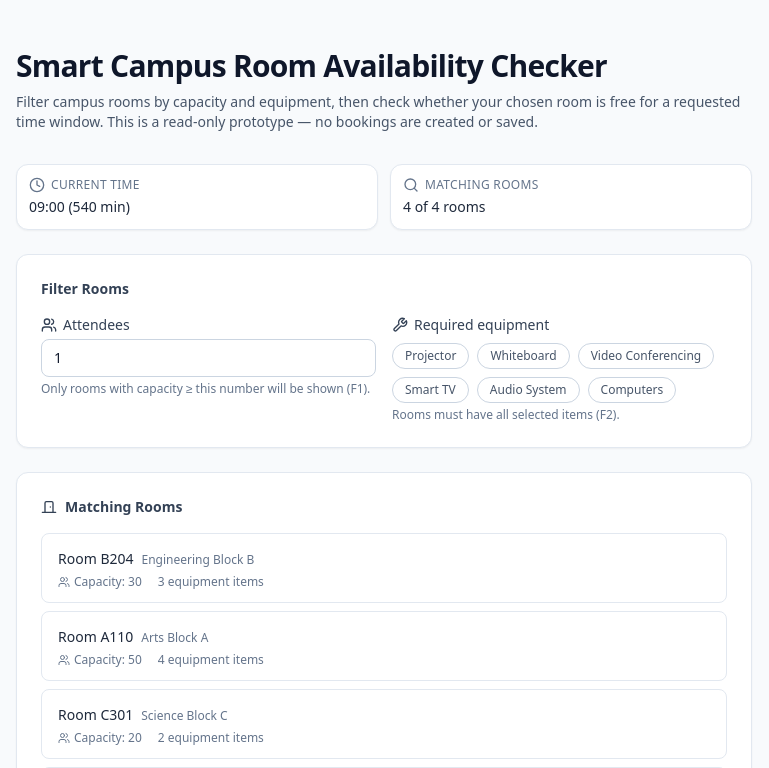
Test: Integration — check availability end to end › shows validation errors for invalid time inputs
Click the text "Room B204". click: x=96, y=558
box: [58,549,134,568]
(page scrolled)
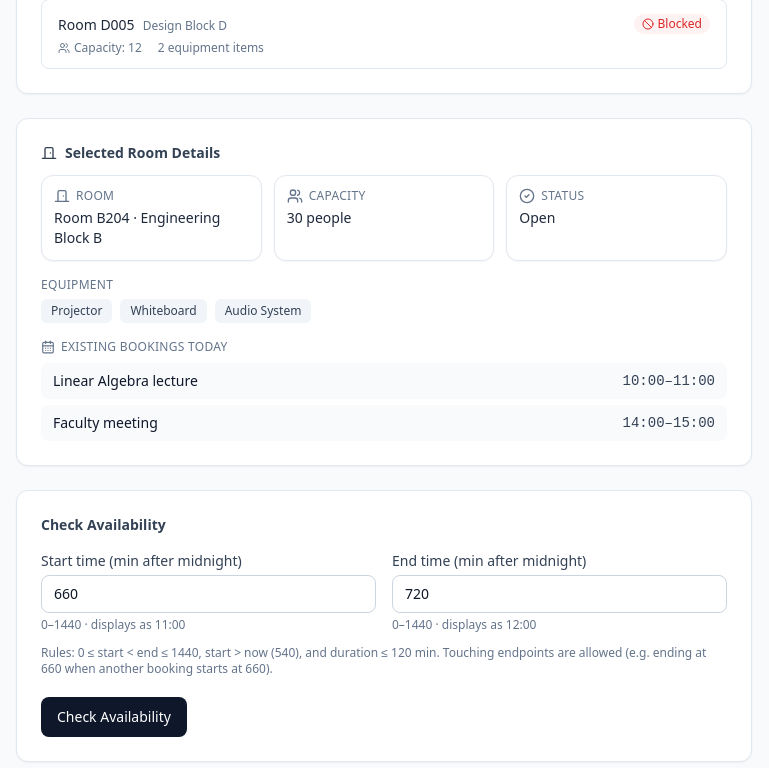
Replace the text in the number field labelled "Start time (min after midnight) 0–1440 · displays as 11:00" with "700". click: x=208, y=594
box: [41,575,376,613]
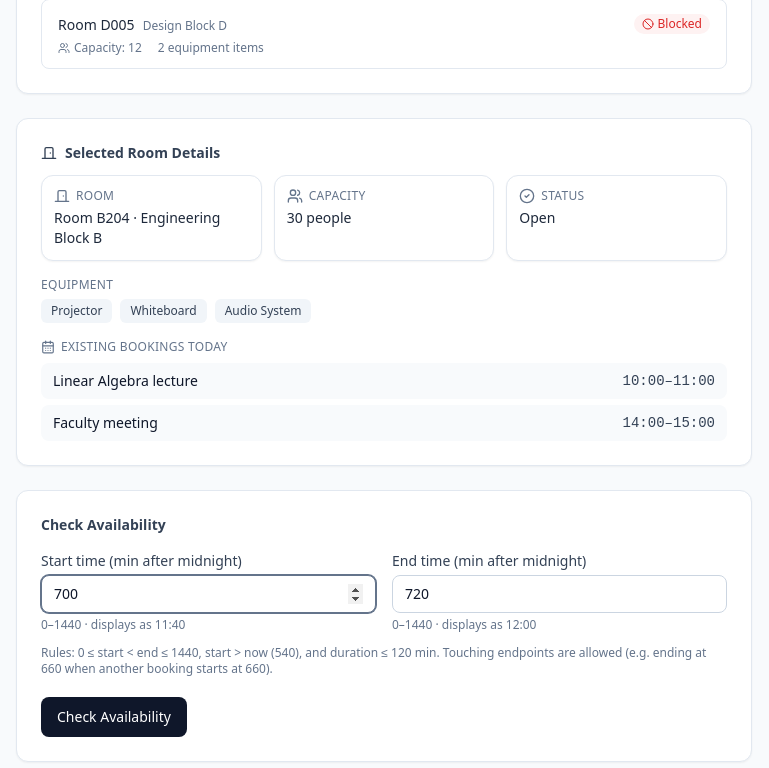
Replace the text in the number field labelled "End time (min after midnight) 0–1440 · displays as 12:00" with "700". click: x=560, y=594
box: [392,575,727,613]
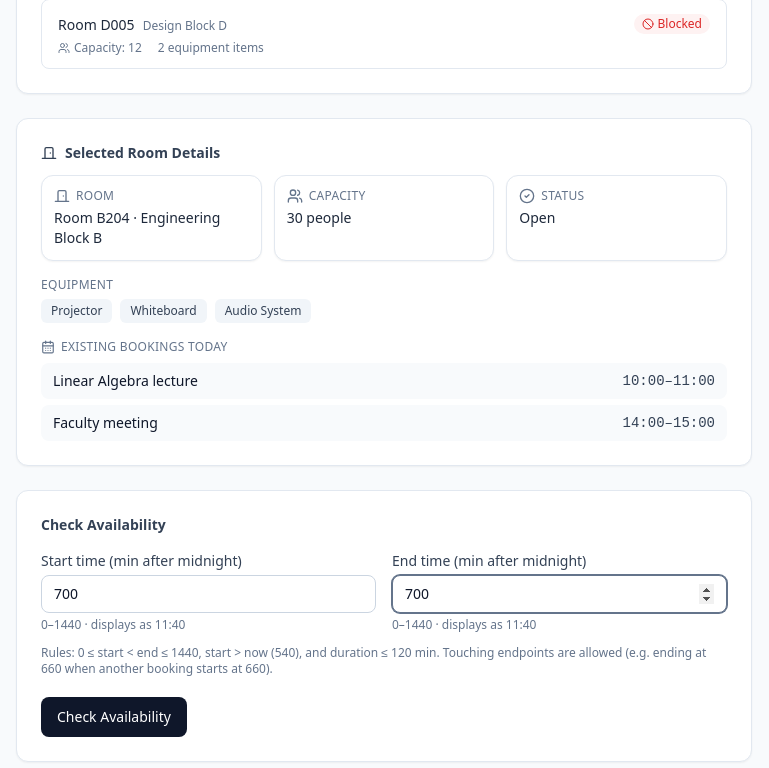
Click the button "Check Availability". click: x=114, y=717
box: [41,697,187,737]
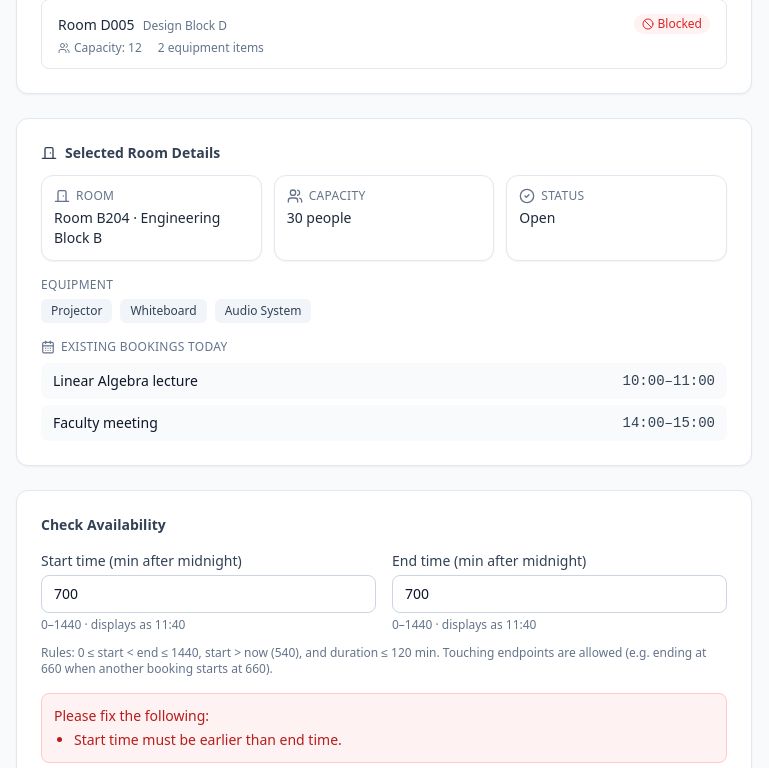
expect the text "Please fix the following:" is shown: met, box [54,706,209,725]
